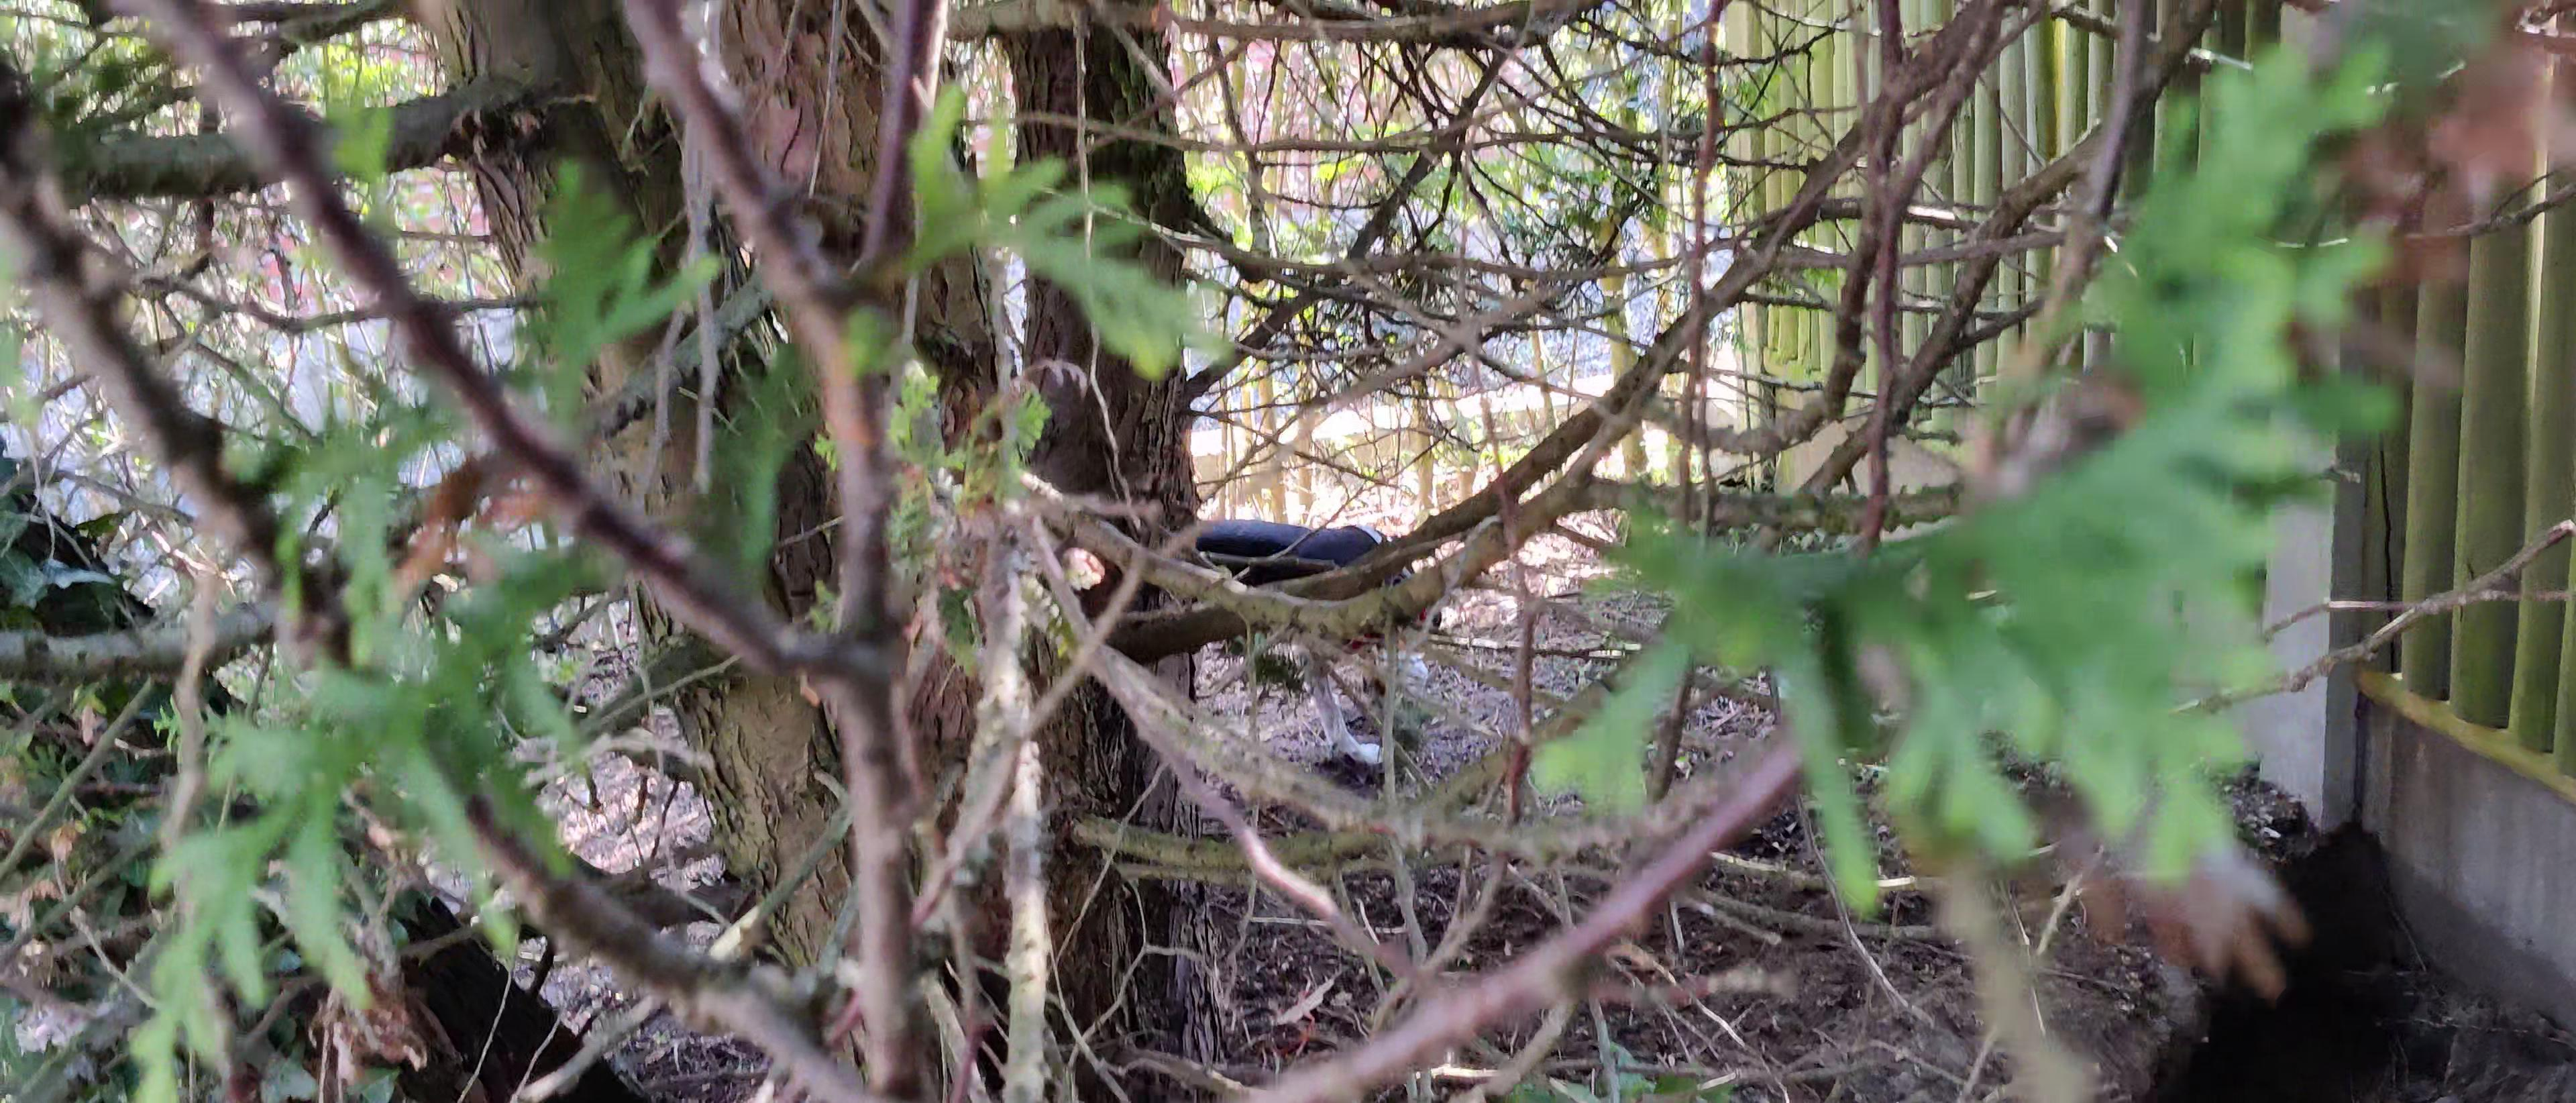Dog: (1152, 485, 1444, 778)
